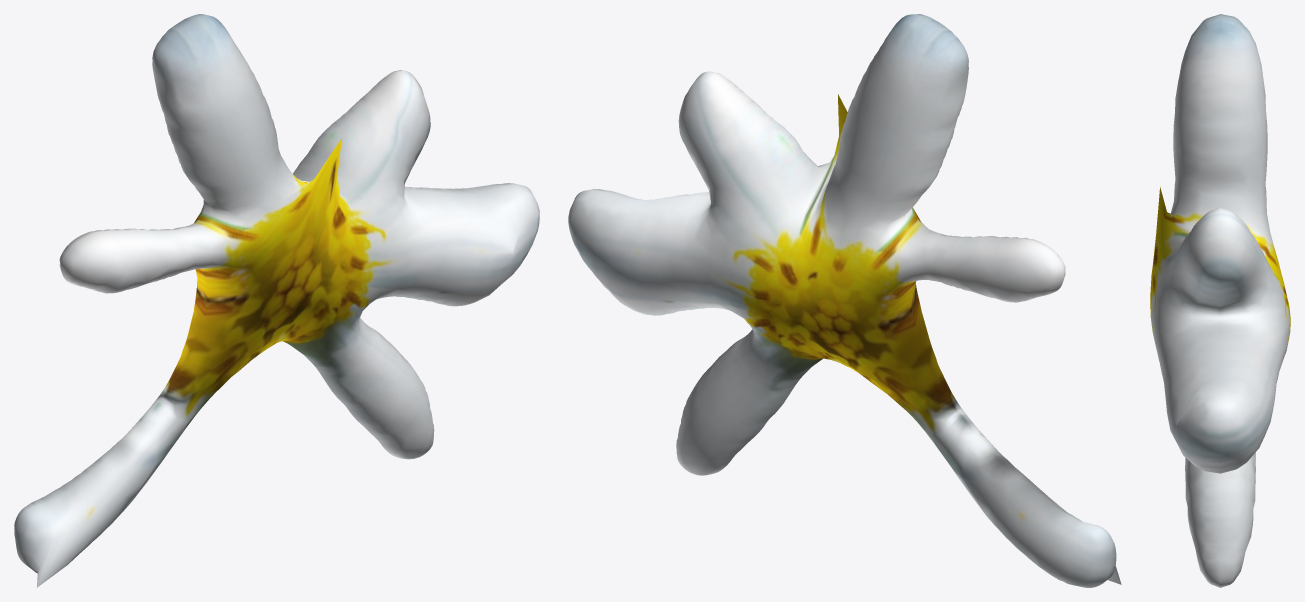
Rendered from 將促花.glb.
The picture shows the model from 3 angles, left to right: view 1: azimuth 30°, elevation 25°; view 2: azimuth 150°, elevation 25°; view 3: azimuth 270°, elevation 25°; orthographic projection. The views are drawn at different scales.
Size of the model in its own units: 4.01 by 3.8 by 0.9799.
Materials: 1 (1 with a texture image).
